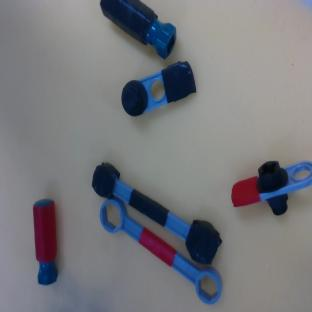part_1_bad: (115, 58, 200, 119)
part_1_good: (232, 161, 312, 214)
part_2_good: (32, 198, 59, 285)
part_3_bad: (81, 158, 229, 269)
part_3_good: (92, 193, 232, 308)
